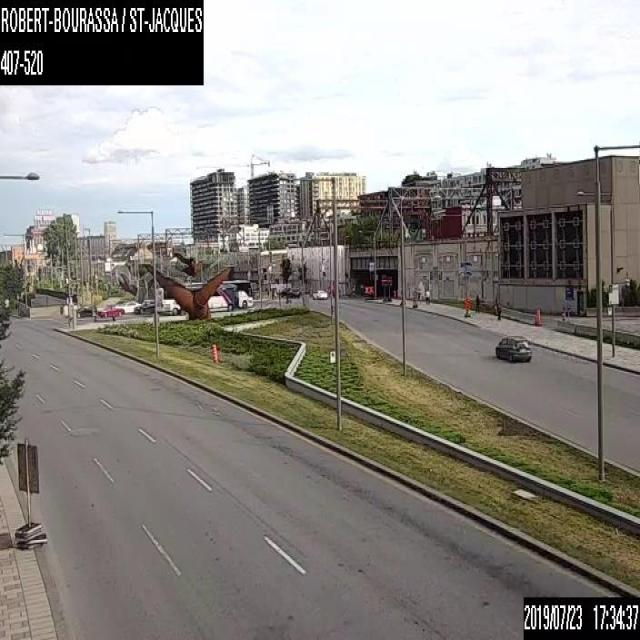bus: (156, 278, 254, 314)
construction: (362, 284, 373, 296), (212, 341, 217, 363), (392, 289, 395, 299)
pedestrian: (492, 298, 500, 318), (474, 292, 480, 312), (424, 284, 429, 303)
vehicle: (494, 334, 531, 362), (132, 296, 154, 313), (98, 303, 124, 317), (310, 286, 327, 298), (76, 305, 97, 314)
